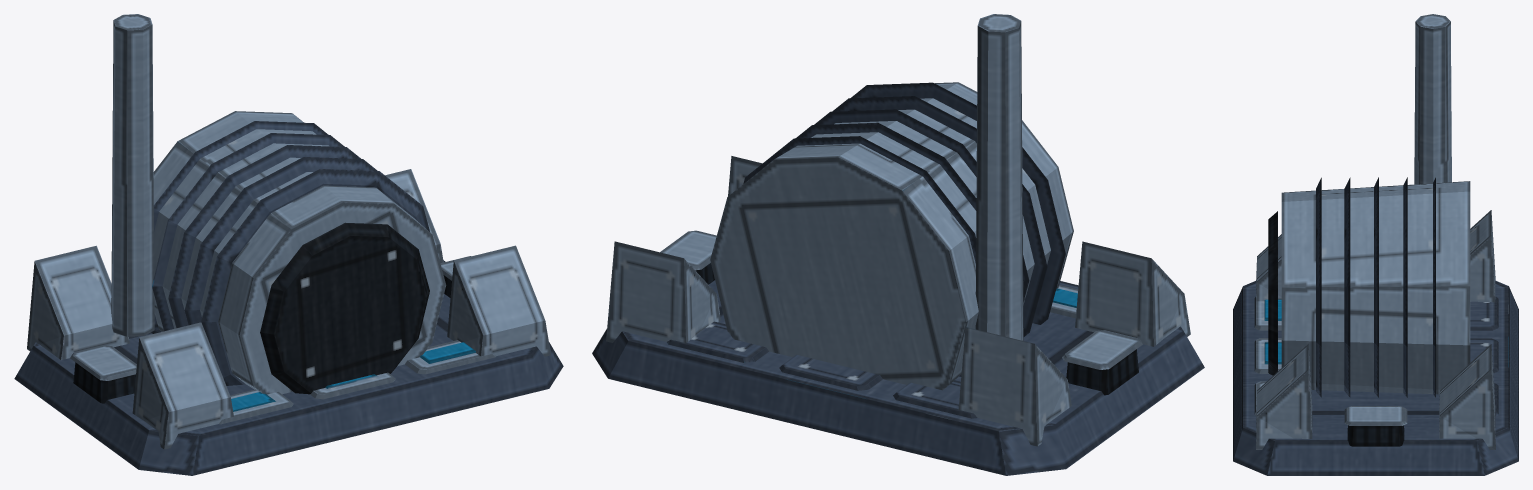
File: building-gas_turbine.fbx
3 views of the same model, side by side, from view 1: azimuth 30°, elevation 25°; view 2: azimuth 150°, elevation 25°; view 3: azimuth 270°, elevation 25° (orthographic). The views are drawn at different scales.
Parts seen in each view (by area): view 1: building-gas_turbine; view 2: building-gas_turbine; view 3: building-gas_turbine.
Boxes of the visible parts, x1,y1,x2,y2 form: building-gas_turbine: (14, 14, 563, 475); building-gas_turbine: (592, 14, 1204, 475); building-gas_turbine: (1233, 14, 1518, 475).
Bounding box in the file's own units: 2184 × 1862 × 1456.
Materials: 1 (1 with a texture image).
